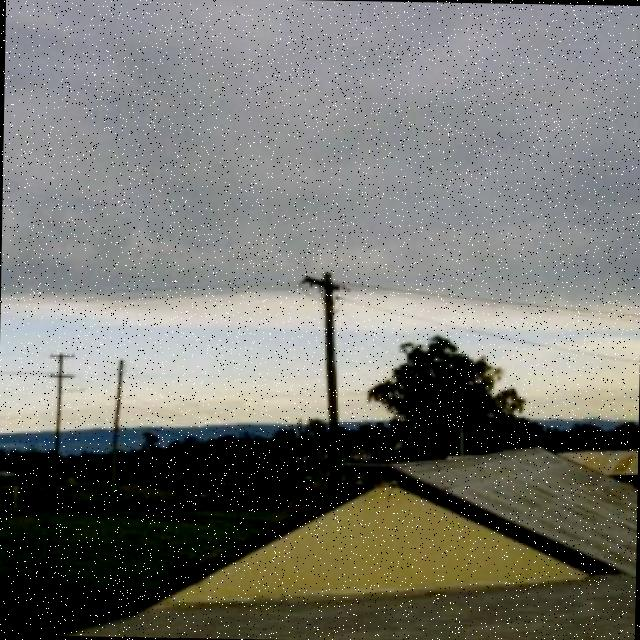Ns: (1, 1, 640, 278)
